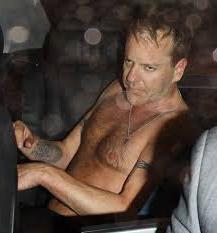Drunk: (124, 33, 168, 104)
